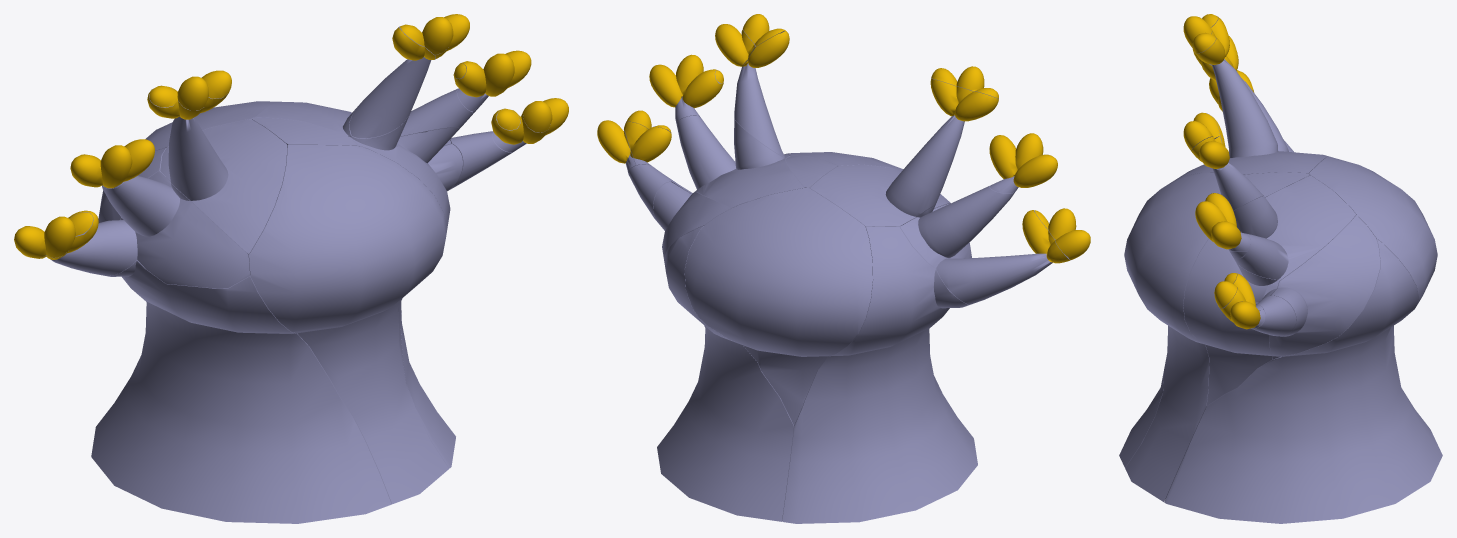
The model's file is StatueAxolotlFracture.fbx.
3 renders of one model, left to right at view 1: azimuth 30°, elevation 25°; view 2: azimuth 150°, elevation 25°; view 3: azimuth 270°, elevation 25°, orthographic. The views are drawn at different scales.
Visible parts, largest first — view 1: AxolotlBool_cell.018, AxolotlBool_cell.011, AxolotlBool_cell.005, AxolotlBool_cell.008, AxolotlBool_cell.006, AxolotlBool_cell.012, AxolotlBool_cell.009, AxolotlBool_cell.007, AxolotlBool_cell.016, AxolotlBool_cell.002, AxolotlBool_cell.001, AxolotlBool_cell.010 (+6 smaller); view 2: AxolotlBool_cell.018, AxolotlBool_cell.019, AxolotlBool_cell.001, AxolotlBool_cell.008, AxolotlBool_cell.005, AxolotlBool_cell.009, AxolotlBool_cell.012, AxolotlBool_cell.007, AxolotlBool_cell.016, AxolotlBool_cell.004, AxolotlBool_cell.002, AxolotlBool_cell.003 (+7 smaller); view 3: AxolotlBool_cell.001, AxolotlBool_cell.011, AxolotlBool_cell.004, AxolotlBool_cell.009, AxolotlBool_cell.006, AxolotlBool_cell.019, AxolotlBool_cell.008, AxolotlBool_cell.016, AxolotlBool_cell.012, AxolotlBool_cell, AxolotlBool_cell.018, AxolotlBool_cell.010 (+8 smaller).
Boxes of the visible parts, bbox=[...] form: AxolotlBool_cell.018: bbox=[91, 147, 391, 523]; AxolotlBool_cell.011: bbox=[247, 145, 448, 504]; AxolotlBool_cell.005: bbox=[39, 171, 249, 288]; AxolotlBool_cell.008: bbox=[147, 77, 286, 253]; AxolotlBool_cell.006: bbox=[348, 127, 462, 356]; AxolotlBool_cell.012: bbox=[349, 26, 435, 138]; AxolotlBool_cell.009: bbox=[255, 88, 473, 136]; AxolotlBool_cell.007: bbox=[70, 139, 154, 188]; AxolotlBool_cell.016: bbox=[453, 50, 531, 111]; AxolotlBool_cell.002: bbox=[14, 212, 92, 258]; AxolotlBool_cell.001: bbox=[400, 313, 455, 468]; AxolotlBool_cell.010: bbox=[149, 70, 231, 110]; AxolotlBool_cell.018: bbox=[782, 226, 977, 523]; AxolotlBool_cell.019: bbox=[684, 188, 872, 425]; AxolotlBool_cell.001: bbox=[657, 226, 794, 521]; AxolotlBool_cell.008: bbox=[810, 79, 998, 226]; AxolotlBool_cell.005: bbox=[900, 185, 1070, 304]; AxolotlBool_cell.009: bbox=[676, 115, 804, 207]; AxolotlBool_cell.012: bbox=[734, 31, 789, 156]; AxolotlBool_cell.007: bbox=[989, 133, 1057, 193]; AxolotlBool_cell.016: bbox=[649, 54, 723, 123]; AxolotlBool_cell.004: bbox=[653, 182, 731, 257]; AxolotlBool_cell.002: bbox=[1034, 208, 1090, 259]; AxolotlBool_cell.003: bbox=[624, 122, 671, 165]; AxolotlBool_cell.001: bbox=[1164, 238, 1442, 523]; AxolotlBool_cell.011: bbox=[1124, 172, 1247, 501]; AxolotlBool_cell.004: bbox=[1269, 215, 1380, 359]; AxolotlBool_cell.009: bbox=[1230, 175, 1355, 280]; AxolotlBool_cell.006: bbox=[1183, 231, 1279, 405]; AxolotlBool_cell.019: bbox=[1309, 157, 1437, 328]; AxolotlBool_cell.008: bbox=[1176, 16, 1326, 179]; AxolotlBool_cell.016: bbox=[1195, 193, 1250, 251]; AxolotlBool_cell.012: bbox=[1206, 113, 1263, 210]; AxolotlBool_cell: bbox=[1251, 295, 1296, 336]; AxolotlBool_cell.018: bbox=[1119, 154, 1432, 467]; AxolotlBool_cell.010: bbox=[1183, 14, 1217, 53].
Bounding box in the file's own units: 335 × 252 × 193.
